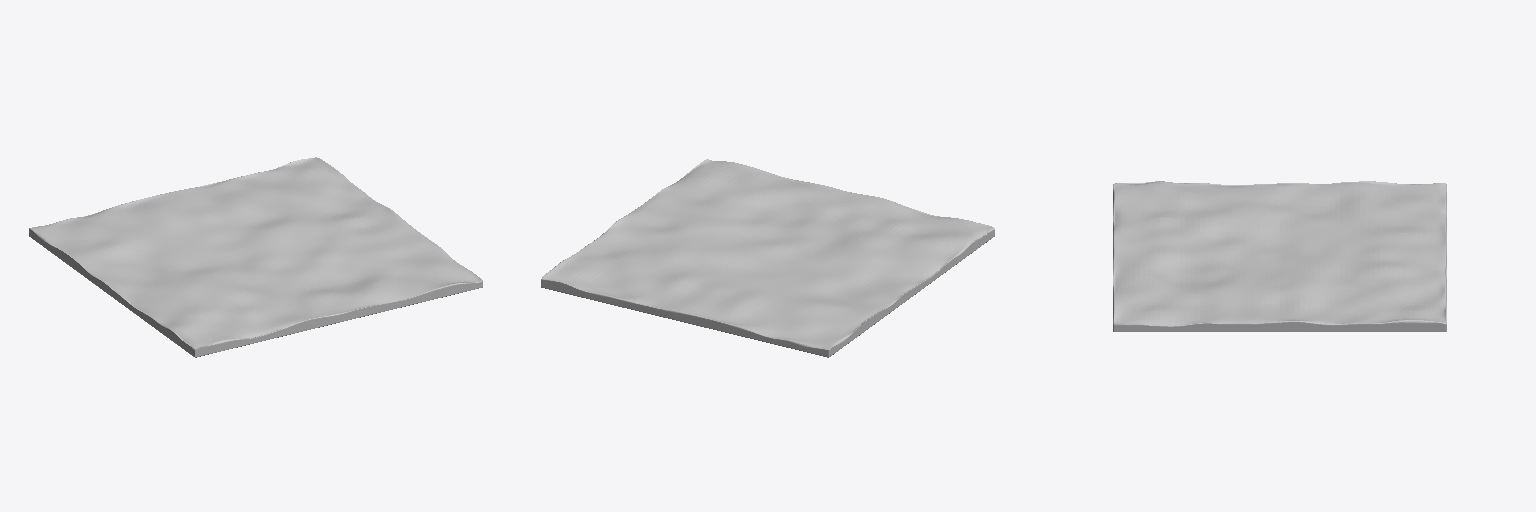
File: grass.obj
3 views of the same model, side by side, from view 1: azimuth 30°, elevation 25°; view 2: azimuth 150°, elevation 25°; view 3: azimuth 270°, elevation 25° (orthographic).
Parts seen in each view (by area): view 1: 10450_Rectangular_Grass_Patch_v1_iterations-2; view 2: 10450_Rectangular_Grass_Patch_v1_iterations-2; view 3: 10450_Rectangular_Grass_Patch_v1_iterations-2.
Boxes of the visible parts, x1,y1,x2,y2 form: 10450_Rectangular_Grass_Patch_v1_iterations-2: [29, 157, 482, 357]; 10450_Rectangular_Grass_Patch_v1_iterations-2: [541, 159, 994, 357]; 10450_Rectangular_Grass_Patch_v1_iterations-2: [1113, 181, 1446, 331].
Bounding box in the file's own units: 300 × 11.78 × 300.